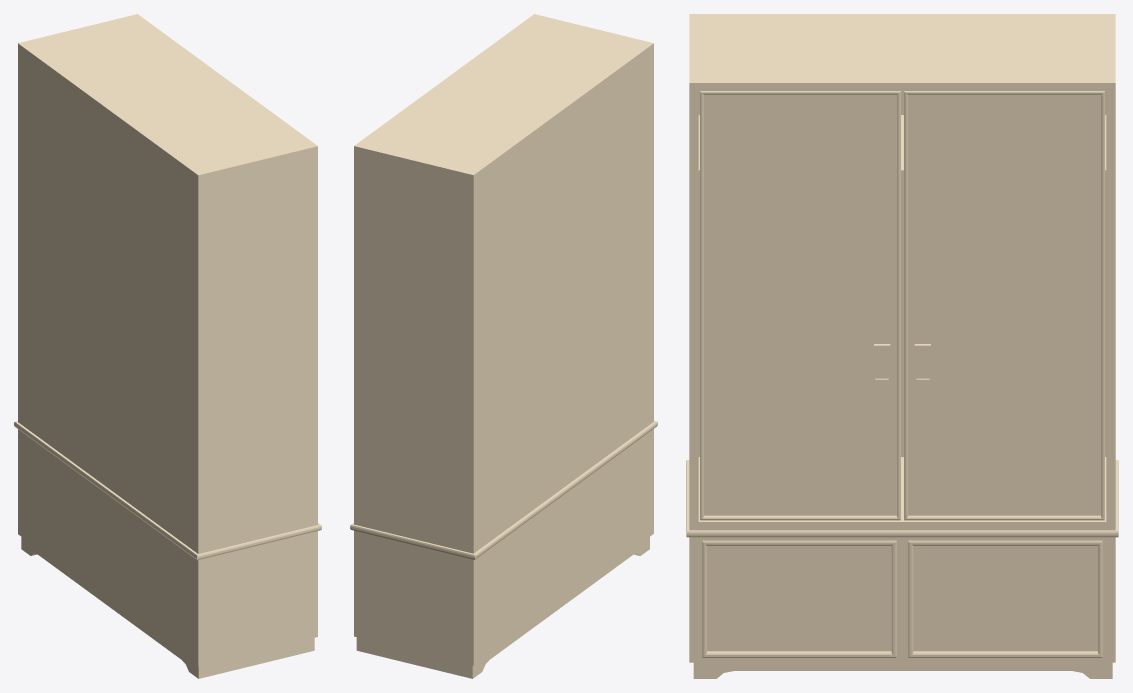
File: ClosetModel.fbx
The picture shows the model from 3 angles, left to right: view 1: azimuth 30°, elevation 25°; view 2: azimuth 150°, elevation 25°; view 3: azimuth 270°, elevation 25°; orthographic projection. The views are drawn at different scales.
Visible parts, largest first — view 1: Cube.058; view 2: Cube.058; view 3: Cube.058, polySurface514, polySurface515.
Boxes of the visible parts, box(x1,y1,x2,y2) form: Cube.058: box(14, 14, 321, 678); Cube.058: box(350, 14, 657, 678); Cube.058: box(686, 14, 1118, 678); polySurface514: box(904, 91, 1104, 520); polySurface515: box(700, 91, 900, 520).
Bounding box in the file's own units: 98.27 × 380 × 250.
